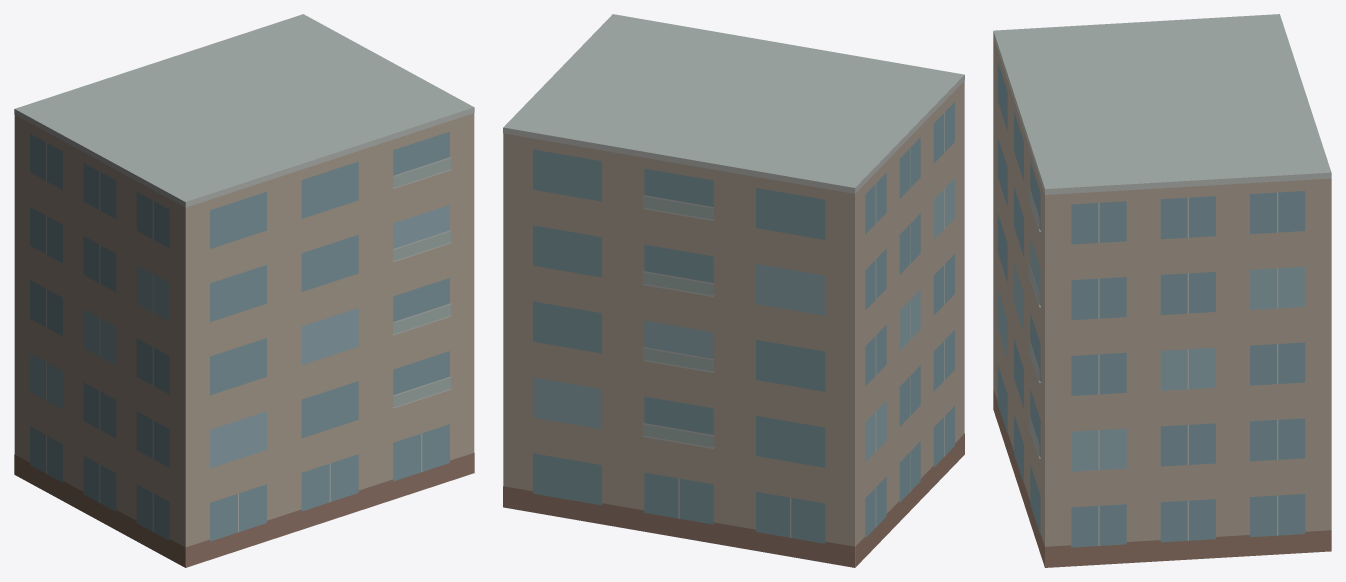
The model's file is survey-upis-32721851.glb.
3 views of the same model, side by side, from view 1: azimuth 30°, elevation 25°; view 2: azimuth 150°, elevation 25°; view 3: azimuth 270°, elevation 25° (orthographic). The views are drawn at different scales.
Visible parts, largest first — view 1: survey-upis-32721851.tmp; view 2: survey-upis-32721851.tmp; view 3: survey-upis-32721851.tmp.
Boxes of the visible parts, <box> form: survey-upis-32721851.tmp: <box>14,14,474,567</box>; survey-upis-32721851.tmp: <box>503,14,964,567</box>; survey-upis-32721851.tmp: <box>993,14,1331,567</box>.
Bounding box in the file's own units: 15.68 × 15.8 × 12.8.
